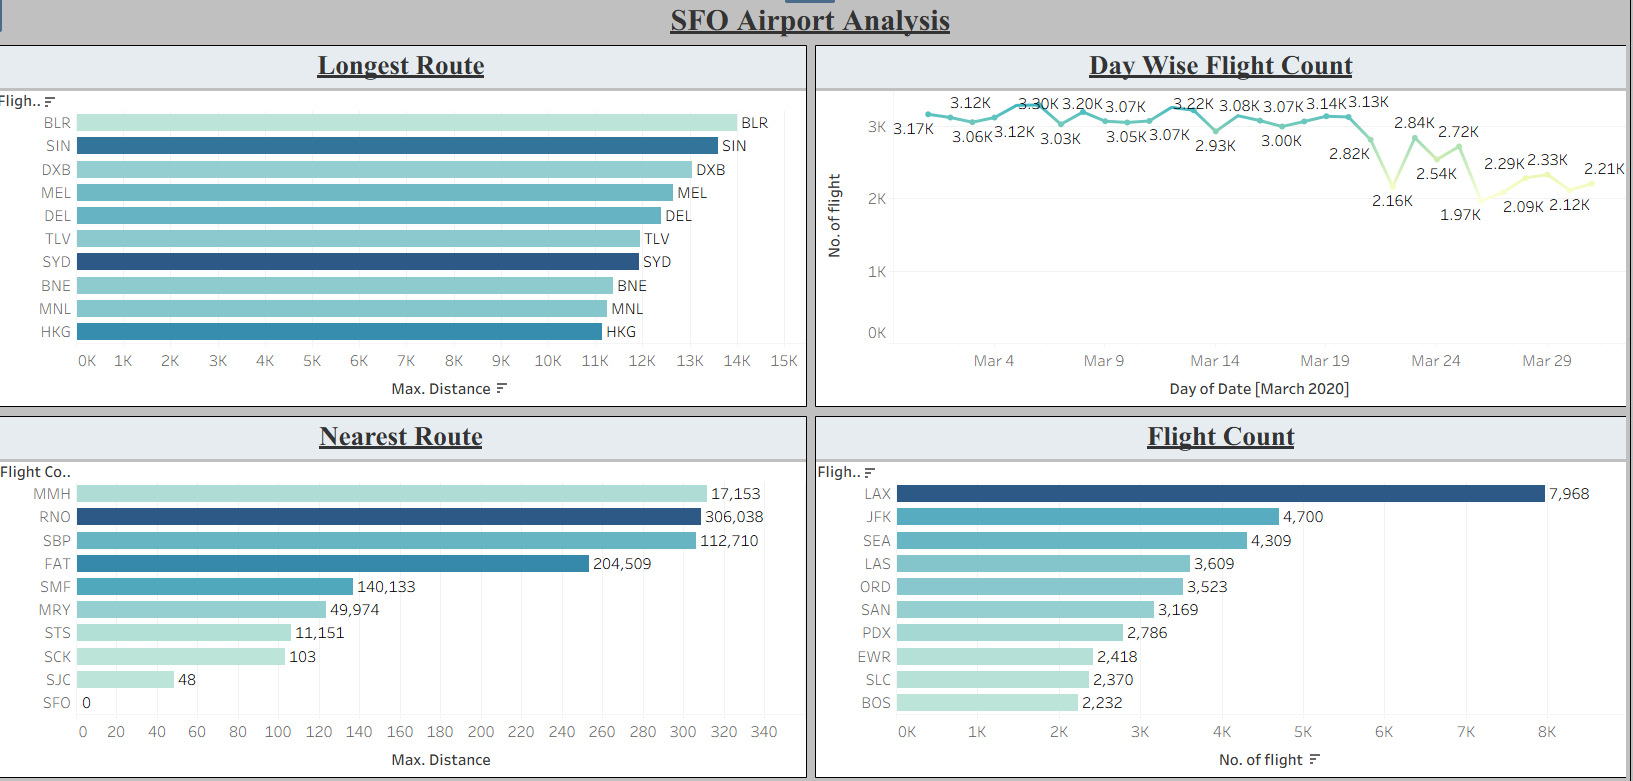

The dashboard page shown, as its layout file describes it:
{"tool":"tableau","page":{"name":"Dashboard 1","canvas":[1000,1000],"units":"permille","ordinal":0},"visuals":[{"type":"title","box":[5.4,11.2,989.1,52.4]},{"type":"worksheet","title":"Longest Route","mark":"Automatic","rows":["Calculation_0023123227971588"],"cols":["Calculation_0023123226128387"],"box":[5.4,63.7,494.6,462.5]},{"type":"worksheet","title":"Day Wise Flight Count","mark":"Automatic","rows":["No. of flight"],"cols":["Date"],"box":[500,63.7,494.6,462.5]},{"type":"worksheet","title":"Nearest Route","mark":"Automatic","rows":["Calculation_0023123227971588"],"cols":["Calculation_0023123226128387"],"box":[5.4,526.2,494.6,462.5]},{"type":"worksheet","title":"Flight Count","mark":"Automatic","rows":["Calculation_0023123227971588"],"cols":["No. of flight"],"box":[500,526.2,494.6,462.5]}]}

Visuals, with their boxes on the dashboard's canvas, which has no fixed pixel size, in thousandths of its width and height (x1, y1, x2, y2). These are canvas units, not pixel positions in the 1633x781 screenshot, which may show the page scaled, cropped or inside an application window:
title: detection(5, 11, 994, 64)
"Longest Route" worksheet: detection(5, 64, 500, 526)
"Day Wise Flight Count" worksheet: detection(500, 64, 995, 526)
"Nearest Route" worksheet: detection(5, 526, 500, 989)
"Flight Count" worksheet: detection(500, 526, 995, 989)
